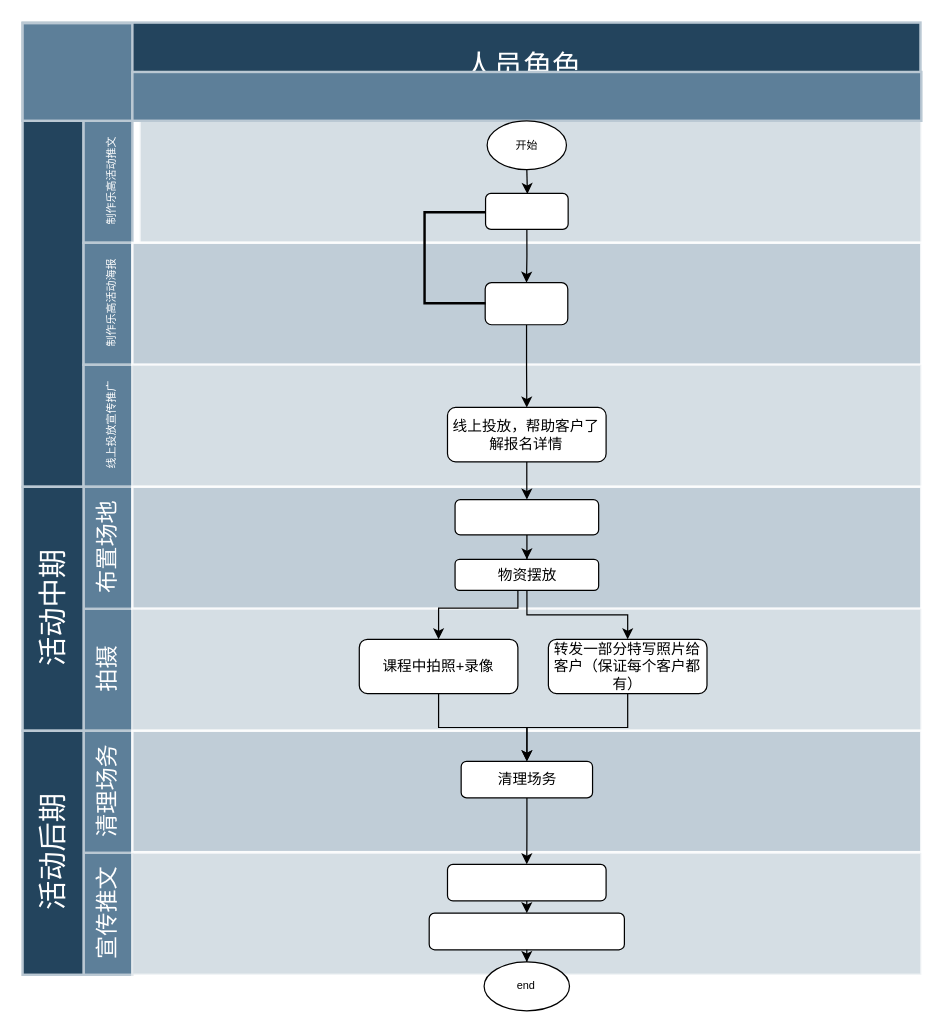
This 943x1032 diagram has some shape labels left out. Here are the shapes that lost their labels. From the top down, the centre of each, then its label:
At point (526, 95): "工作人员".
At point (526, 210): "制作推文".
At point (454, 257): "并行".
At point (52, 303): "活动前期".
At point (526, 303): "制作海报".
At point (526, 516): "设备检测+乐高积木摆放".
At point (526, 882): "整理素材发送给客户".
At point (526, 931): "整理活动内容进行宣传推广".
